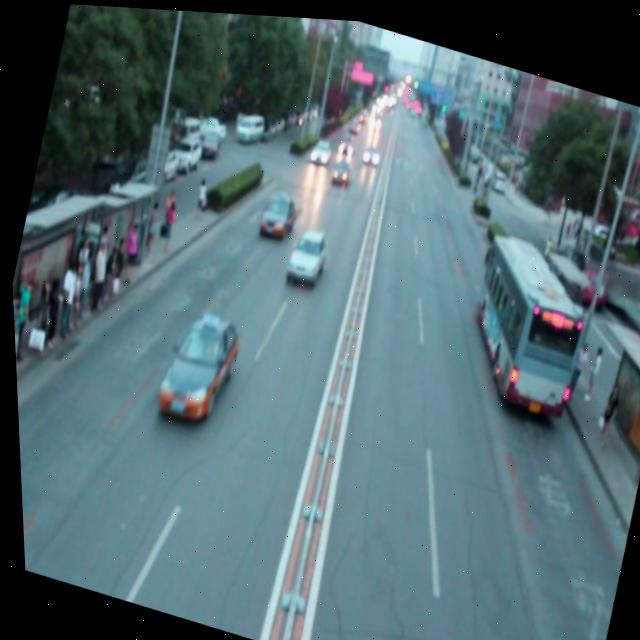car: (153, 300, 244, 439), (281, 219, 329, 286), (254, 182, 297, 239), (325, 150, 352, 187), (306, 130, 332, 164)
van: (446, 222, 596, 425)
